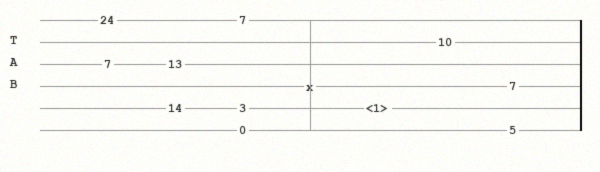0: (239, 124, 250, 136)
10: (438, 36, 456, 48)
13: (168, 58, 186, 70)
14: (168, 102, 186, 114)
24: (100, 14, 118, 26)
3: (239, 102, 250, 114)
5: (509, 124, 520, 136)
7: (104, 58, 115, 70), (239, 14, 250, 26), (509, 80, 520, 92)
harmonic: (366, 102, 393, 114)
x: (306, 81, 317, 91)
